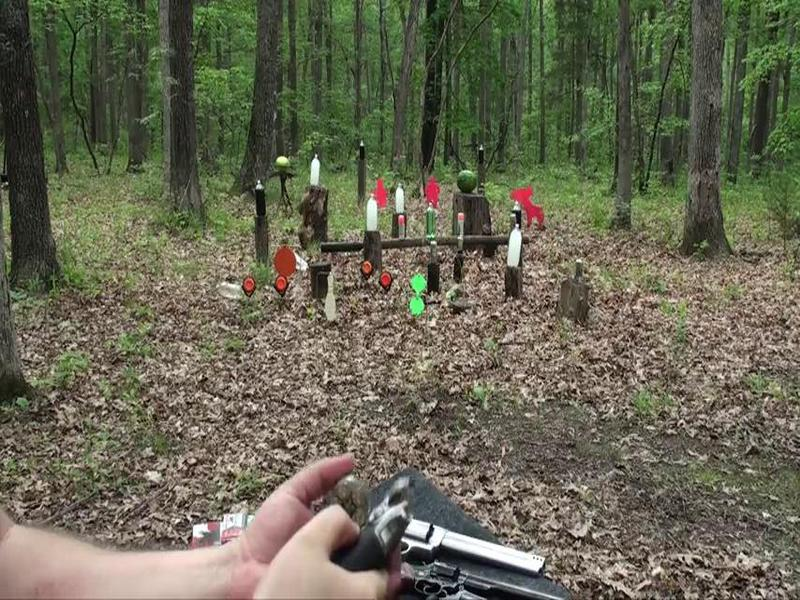Revolver: (347, 490, 560, 593)
